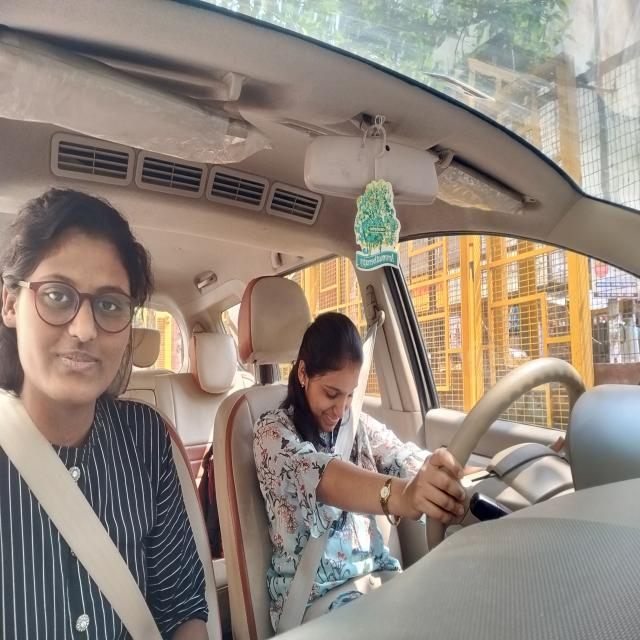drowsy: (286, 300, 367, 466)
person: (5, 170, 150, 453)
